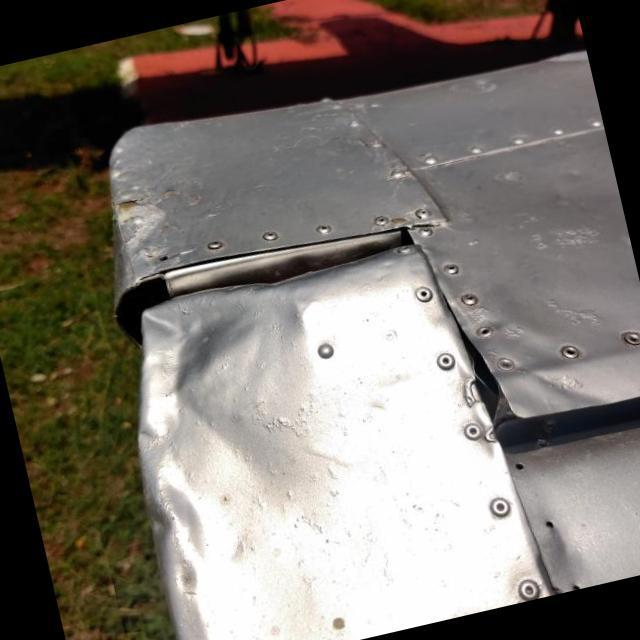Dent: (108, 444, 267, 622), (120, 264, 285, 430)
